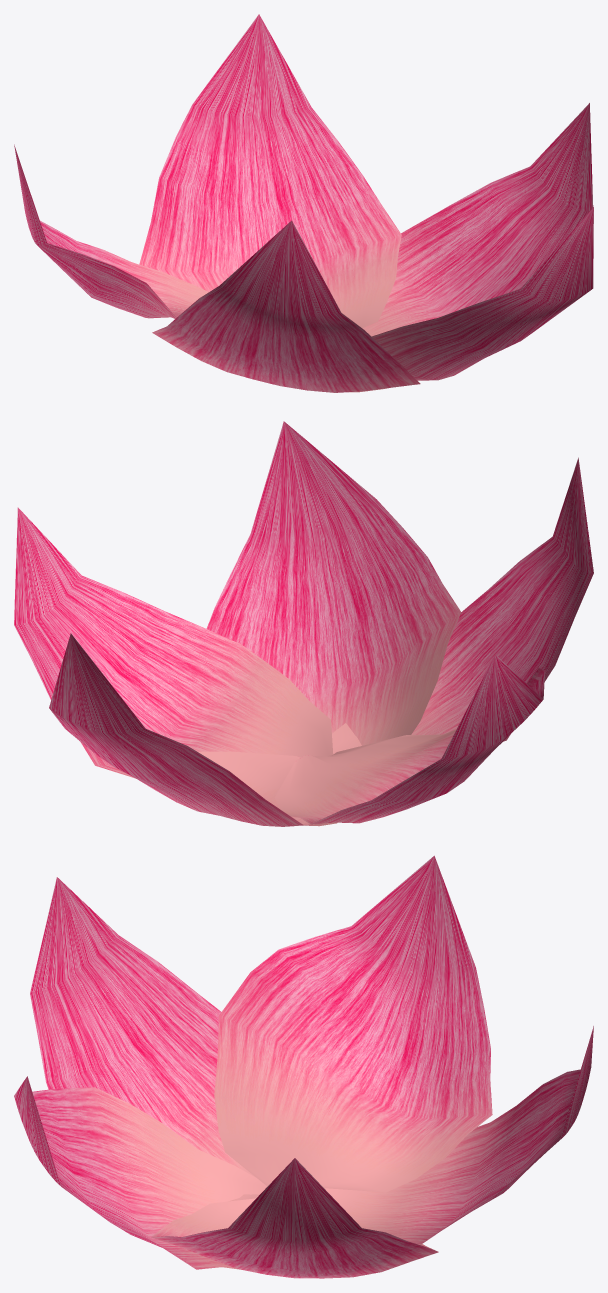
File: petal.obj
The picture shows the model from 3 angles, top to bottom: view 1: azimuth 30°, elevation 25°; view 2: azimuth 150°, elevation 25°; view 3: azimuth 270°, elevation 25°; orthographic projection. The views are drawn at different scales.
Visible parts, largest first — view 1: group3; view 2: group3; view 3: group3.
Boxes of the visible parts, x1=… form: group3: x1=14, y1=14, x2=593, y2=392; group3: x1=14, y1=421, x2=593, y2=826; group3: x1=14, y1=855, x2=593, y2=1278.
Bounding box in the file's own units: 185 × 89.59 × 169.
1 material, 1 textured.
